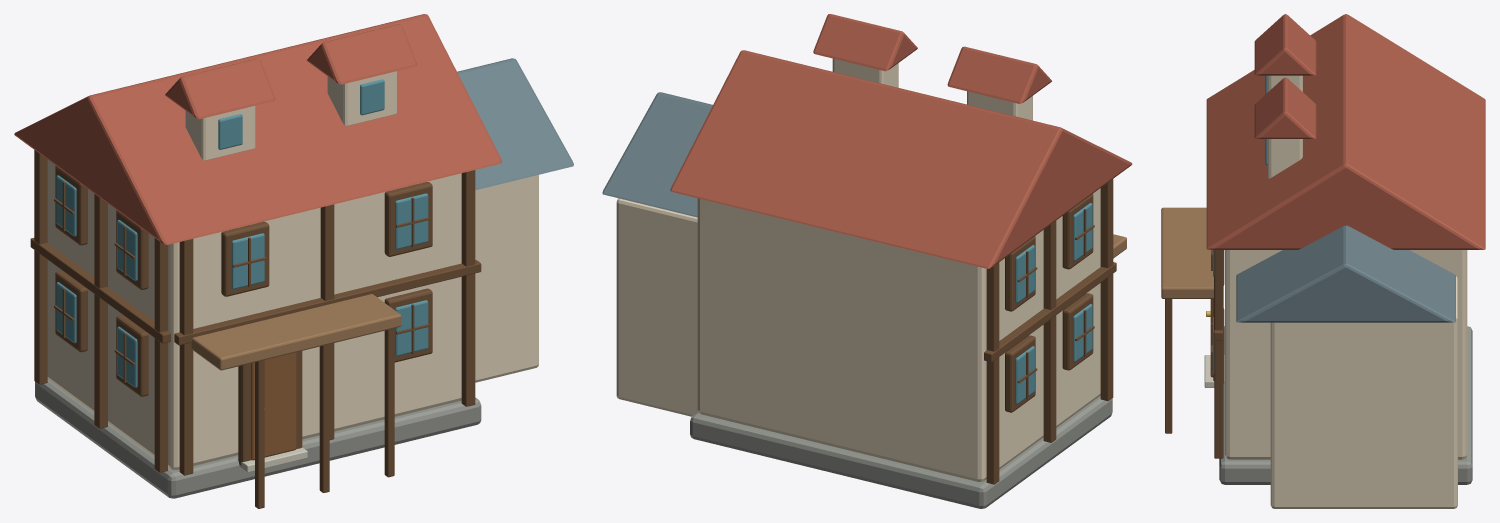
The model's file is temperate-townhouse-2.glb.
3 views of the same model, side by side, from view 1: azimuth 30°, elevation 25°; view 2: azimuth 150°, elevation 25°; view 3: azimuth 270°, elevation 25° (orthographic). The views are drawn at different scales.
Visible parts, largest first — view 1: Warm lime, Clay tiles, Dark beams, Foundation stone, Blue glass, Blue slate, Aged oak, Door oak, Cut limestone; view 2: Warm lime, Clay tiles, Dark beams, Foundation stone, Blue slate, Blue glass; view 3: Clay tiles, Warm lime, Blue slate, Aged oak, Dark beams, Foundation stone.
Part boxes in pixels (x1,y1,x2,y2): Warm lime: (47,71,538,469); Clay tiles: (14,14,501,244); Dark beams: (30,150,481,508); Foundation stone: (35,379,481,498); Blue glass: (56,79,428,387); Blue slate: (457,58,573,190); Aged oak: (191,294,401,370); Door oak: (251,352,296,460); Cut limestone: (237,447,307,472); Warm lime: (616,58,1100,481); Clay tiles: (670,14,1132,268); Dark beams: (984,179,1116,484); Foundation stone: (690,396,1112,508); Blue slate: (602,92,712,217); Blue glass: (1015,203,1092,403); Clay tiles: (1206,14,1485,249); Warm lime: (1225,75,1467,508); Blue slate: (1236,225,1455,322); Aged oak: (1161,207,1213,298); Dark beams: (1165,250,1224,458); Foundation stone: (1219,326,1472,484).
Size of the model in its own units: 4.96 by 4.28 by 3.55.
